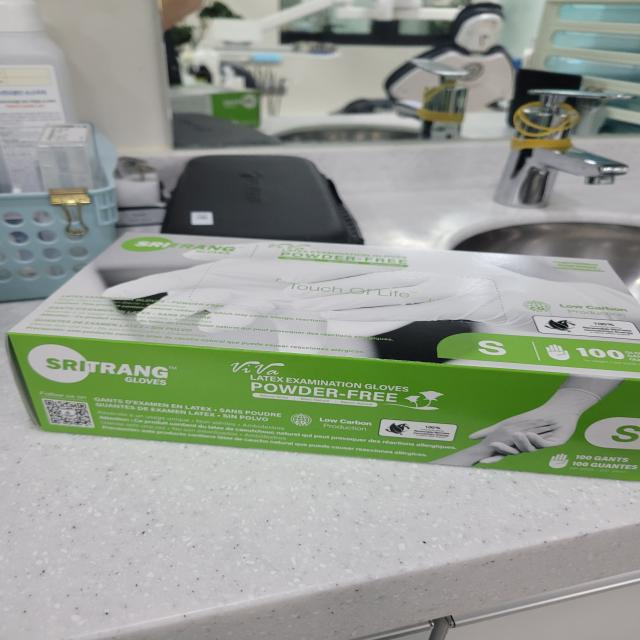glove: (0, 210, 640, 498)
